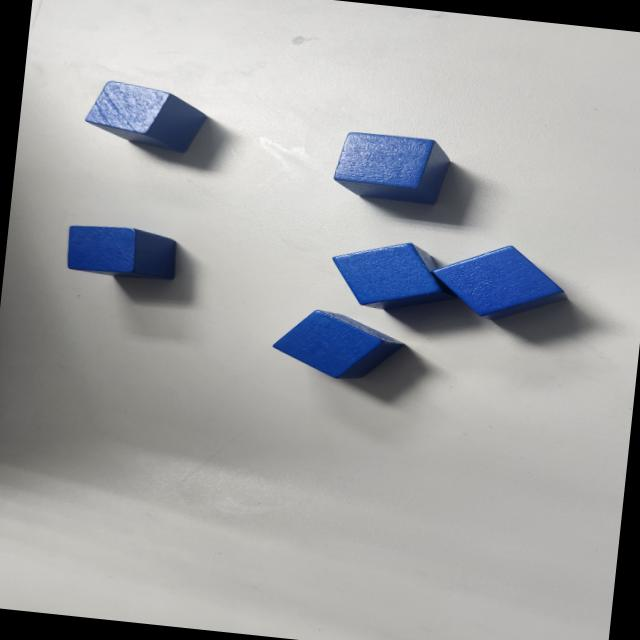blue: (424, 236, 574, 329), (269, 304, 406, 386), (327, 235, 456, 317), (80, 78, 212, 154), (332, 129, 451, 206), (64, 222, 179, 282)
